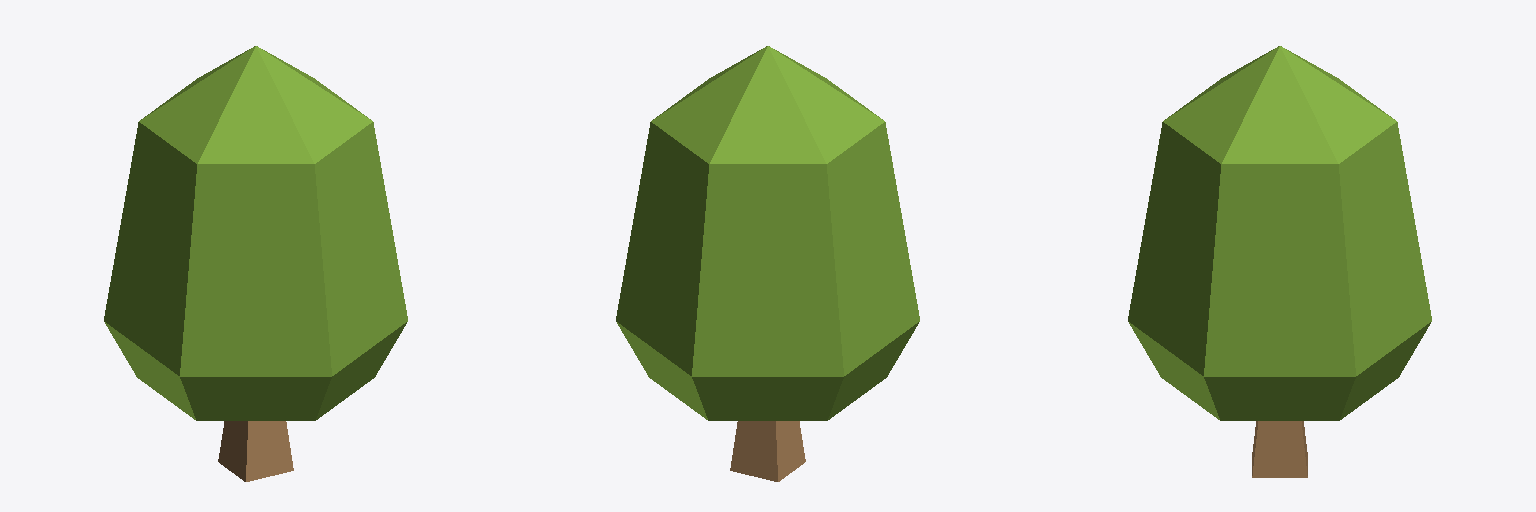
Rendered from roadTile_020.obj.
3 views of the same model, side by side, from view 1: azimuth 30°, elevation 25°; view 2: azimuth 150°, elevation 25°; view 3: azimuth 270°, elevation 25° (orthographic).
Parts seen in each view (by area): view 1: Mesh1_Group1_Model.002; view 2: Mesh1_Group1_Model.002; view 3: Mesh1_Group1_Model.002.
Boxes of the visible parts, box(x1,y1,x2,y2) form: Mesh1_Group1_Model.002: box(104, 46, 407, 481); Mesh1_Group1_Model.002: box(616, 46, 919, 481); Mesh1_Group1_Model.002: box(1128, 46, 1431, 477).
Size of the model in its own units: 0.5367 by 0.9442 by 0.6197.